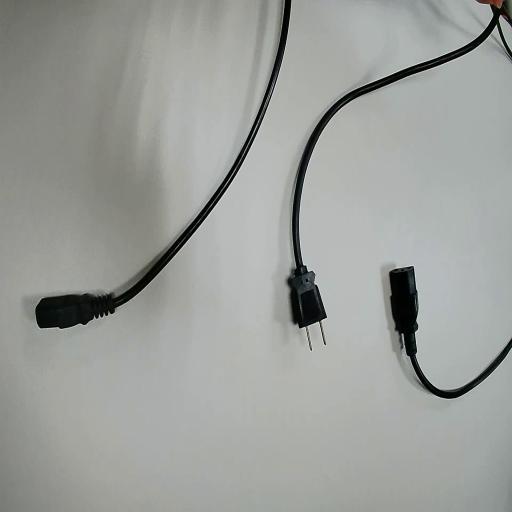wire: (36, 0, 290, 327), (288, 0, 511, 326), (390, 268, 511, 397)
